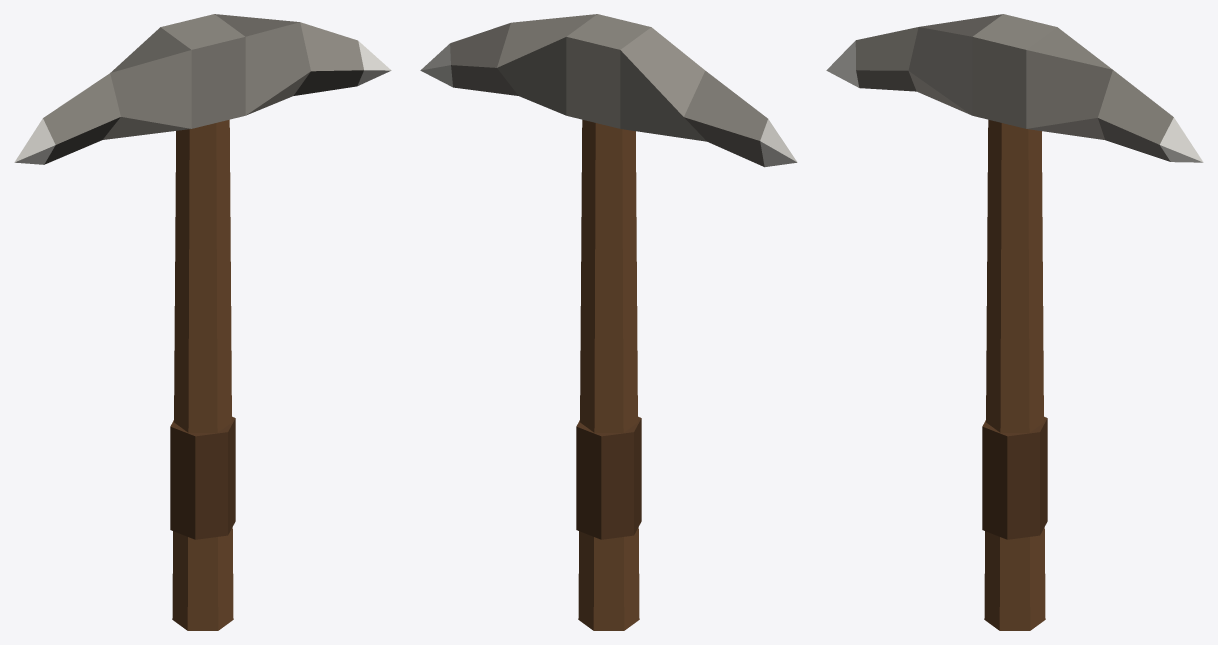
File: wpn_pickaxe_stone_01.fbx
The picture shows the model from 3 angles, left to right: view 1: azimuth 30°, elevation 25°; view 2: azimuth 150°, elevation 25°; view 3: azimuth 330°, elevation 25°; orthographic projection.
Visible parts, largest first — view 1: wpn_pickaxe_stone_01; view 2: wpn_pickaxe_stone_01; view 3: wpn_pickaxe_stone_01.
Boxes of the visible parts, x1,y1,x2,y2 form: wpn_pickaxe_stone_01: [14, 14, 391, 630]; wpn_pickaxe_stone_01: [420, 14, 797, 630]; wpn_pickaxe_stone_01: [826, 14, 1203, 630].
Bounding box in the file's own units: 0.42 × 0.0629 × 0.625.
1 material, 1 textured.
